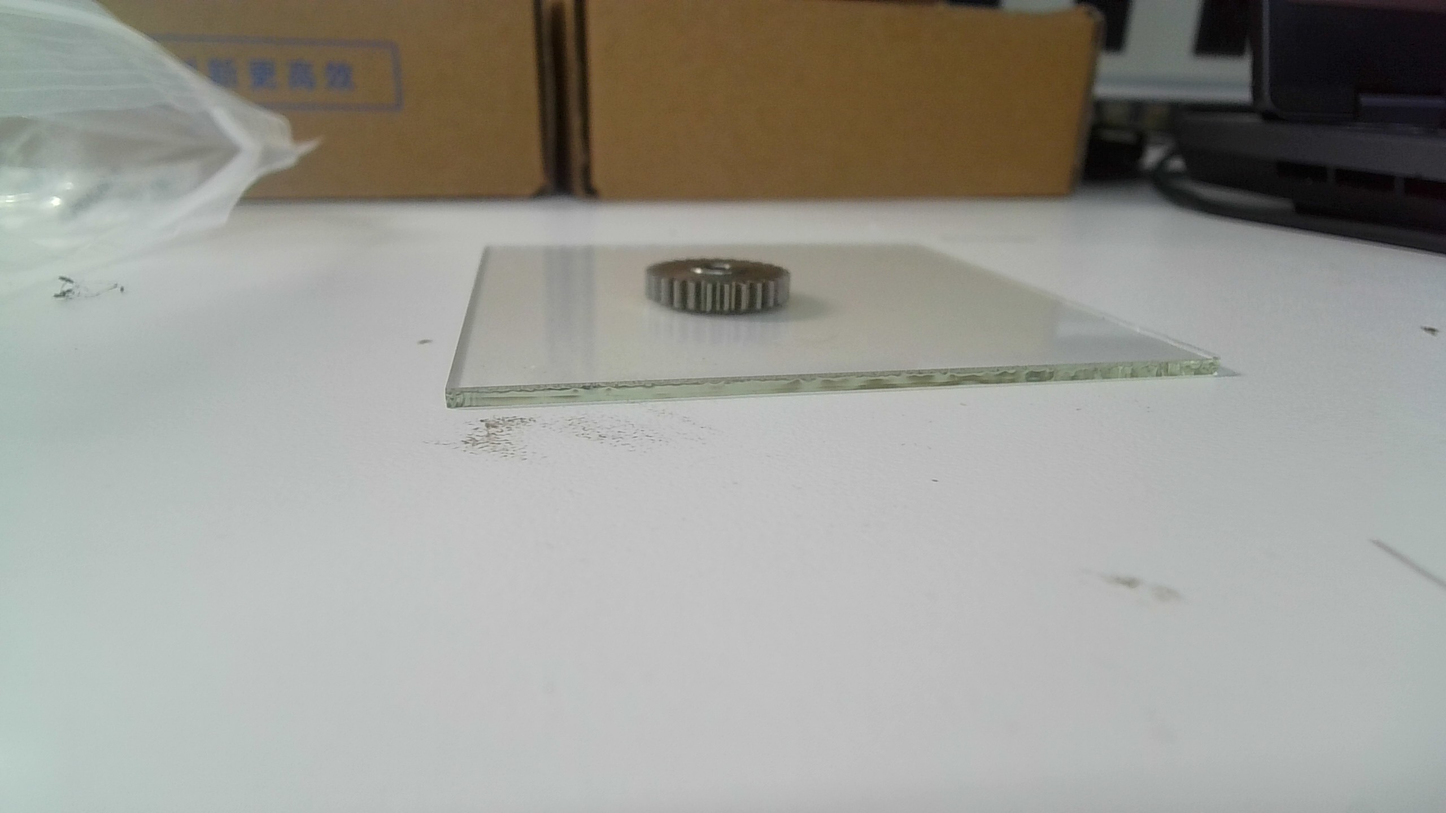gear: (642, 255, 796, 318)
